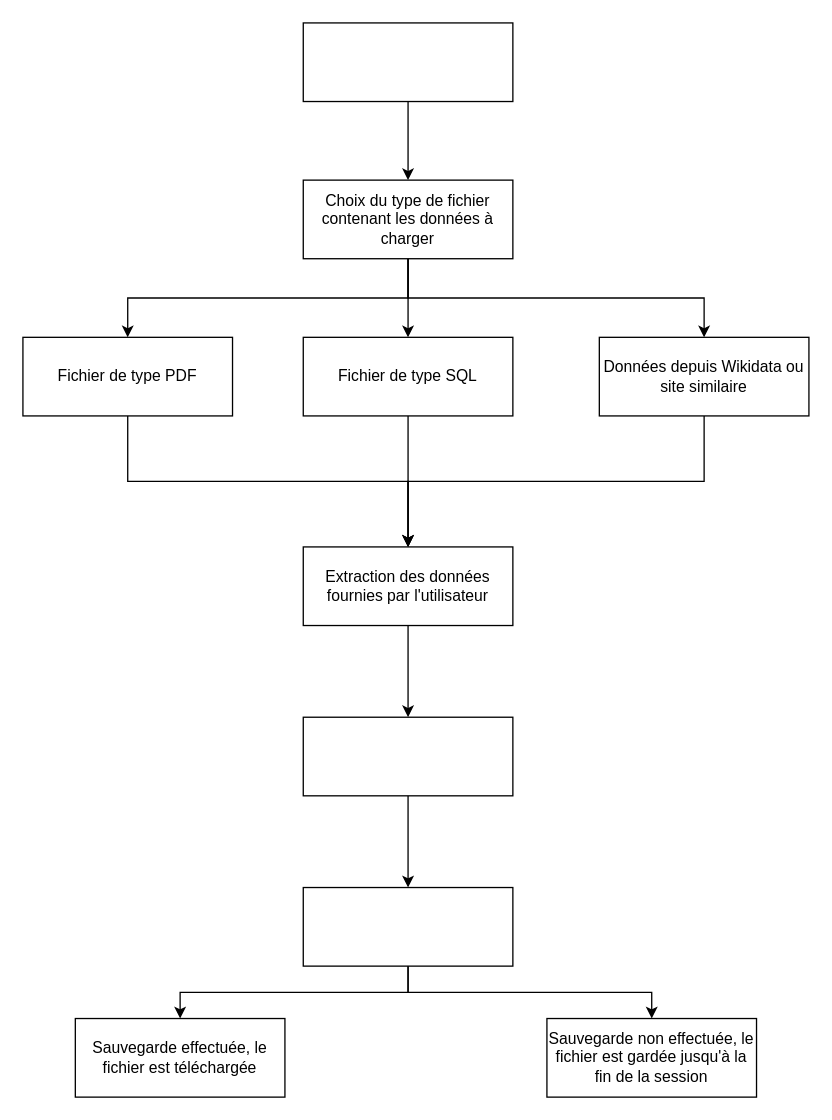
The diagram is 832 pixels wide and 1120 high, and some of its shapes have lost their labels. Each missing label, with the centre of its shape:
"Ouverture du logiciel par l'utilisateur" belongs at pixel 407 62.
"Possibiliter de faire une sauvegarde du fichier RDF" belongs at pixel 407 926.
"Visionnage des données sous format RDF" belongs at pixel 407 756.
